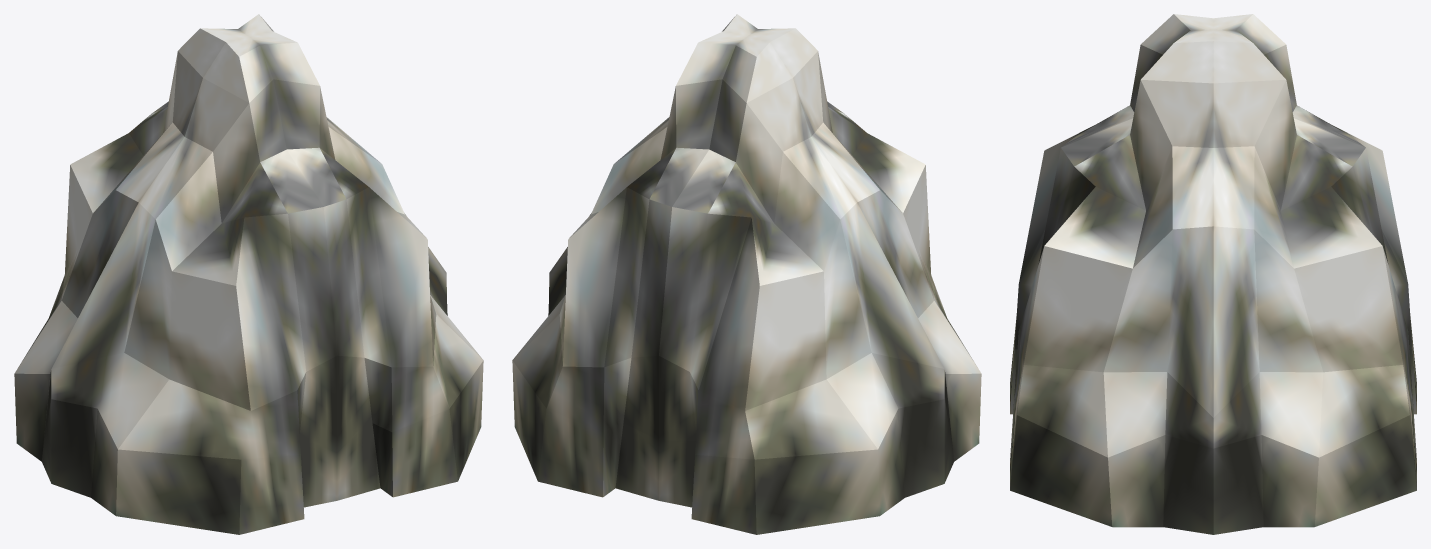
File: Poly_Black_Rock_02_Snow.obj
3 renders of one model, left to right at view 1: azimuth 30°, elevation 25°; view 2: azimuth 150°, elevation 25°; view 3: azimuth 270°, elevation 25°, orthographic.
Parts seen in each view (by area): view 1: Cube; view 2: Cube; view 3: Cube.
Part boxes in pixels (<box>): Cube: <box>14,14,483,534</box>; Cube: <box>512,14,981,534</box>; Cube: <box>1010,14,1416,534</box>.
Bounding box in the file's own units: 0.86 × 0.834 × 0.752.
1 material, 1 textured.
